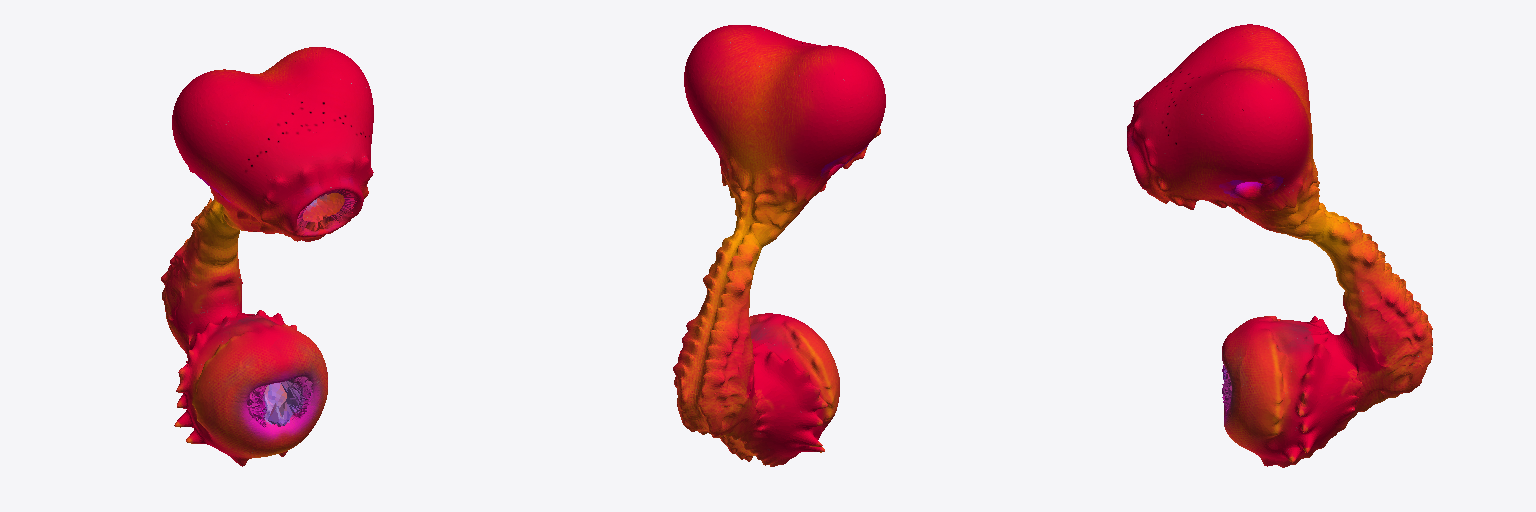
3 renders of one model, left to right at view 1: azimuth 30°, elevation 25°; view 2: azimuth 150°, elevation 25°; view 3: azimuth 270°, elevation 25°, orthographic.
Parts seen in each view (by area): view 1: Creature; view 2: Creature; view 3: Creature.
Boxes of the visible parts, box(x1,y1,x2,y2) form: Creature: box(161, 47, 373, 466); Creature: box(673, 25, 885, 466); Creature: box(1127, 24, 1432, 467).
Size of the model in its own units: 6.56 by 13.87 by 9.48.
1 materials, 1 textured.